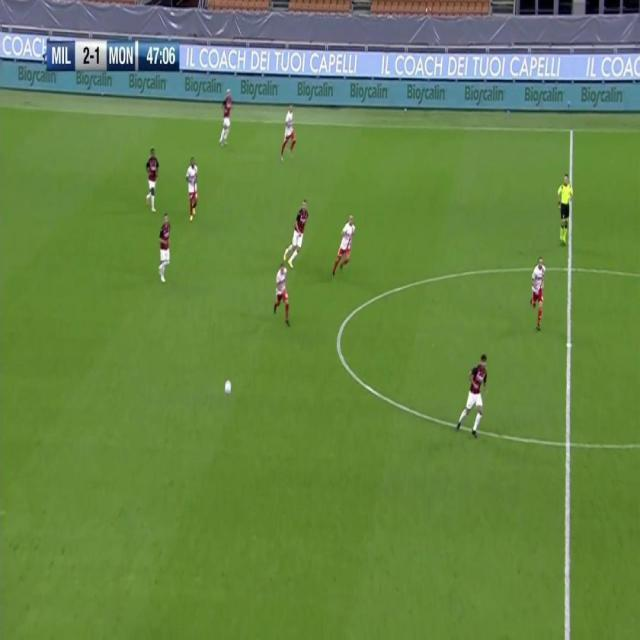ball: (223, 377, 233, 395)
player: (455, 353, 490, 438), (282, 198, 310, 269), (331, 214, 356, 279), (530, 254, 547, 334), (273, 260, 292, 328), (156, 211, 172, 285), (279, 104, 298, 163), (144, 146, 160, 213), (185, 155, 199, 225), (217, 88, 233, 147)
referee: (556, 172, 573, 249)
